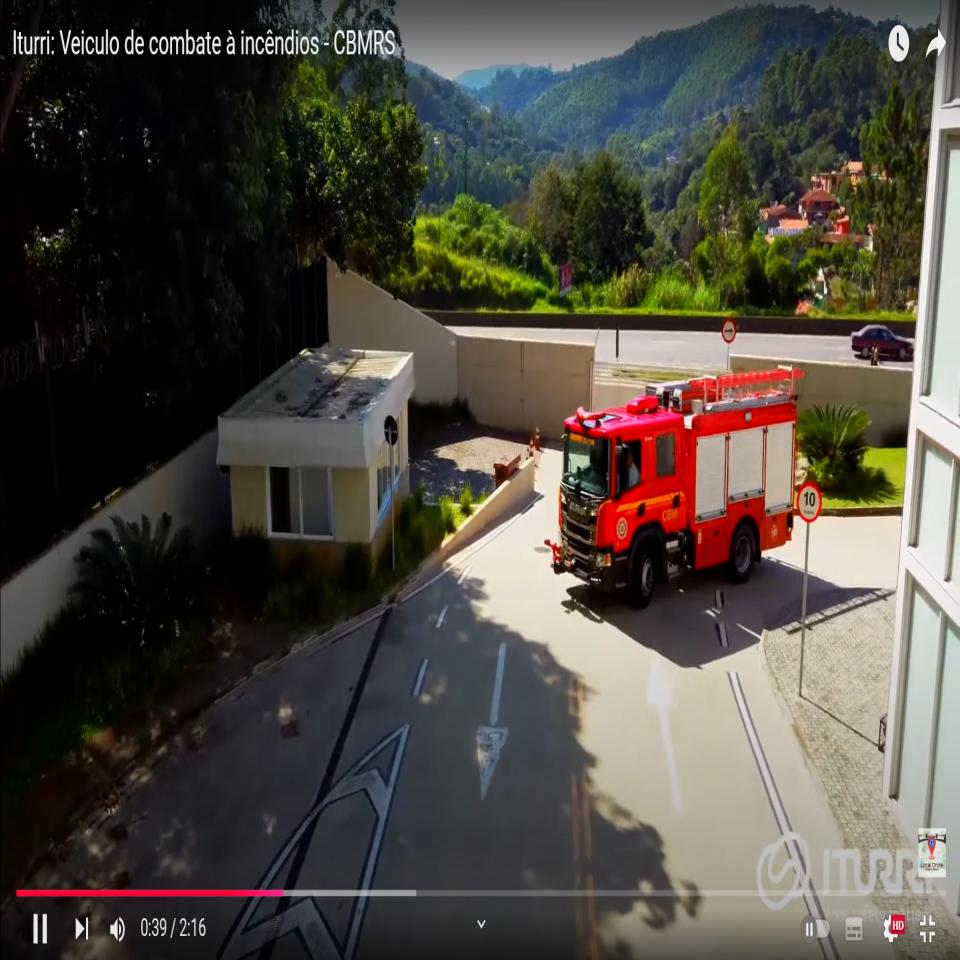viatura: (546, 362, 806, 610)
